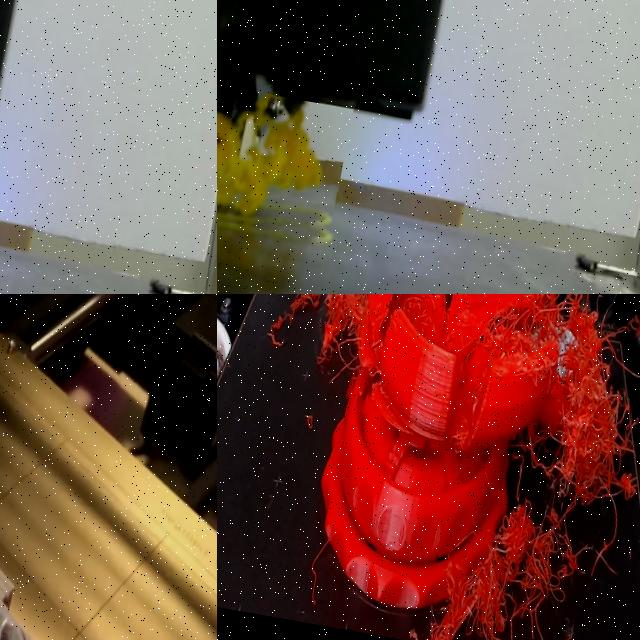spaghetti: (452, 294, 640, 640), (217, 94, 333, 231), (265, 294, 390, 407)
